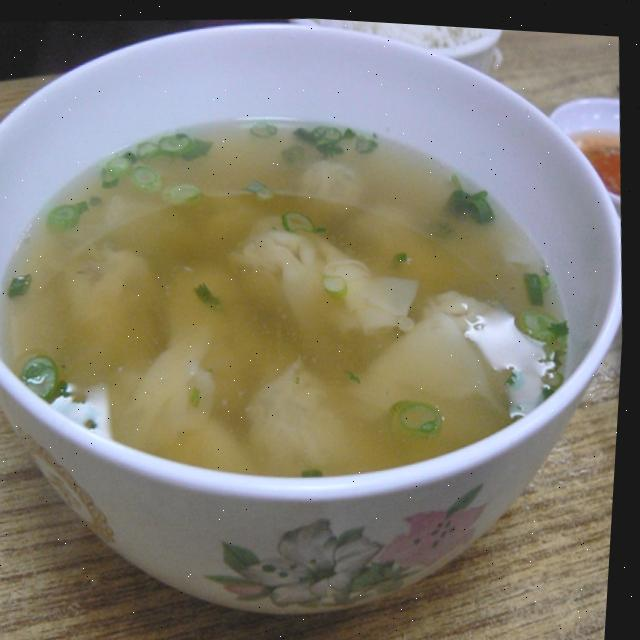汤锅炖物: (0, 39, 588, 556)
